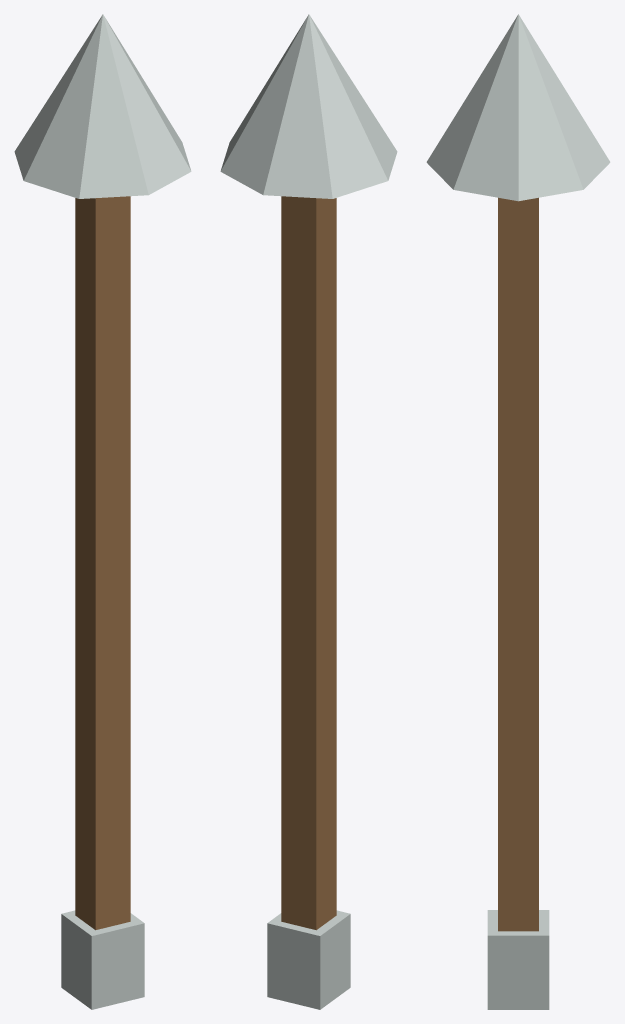
The model's file is weapon_iron_staff.glb.
3 views of the same model, side by side, from view 1: azimuth 30°, elevation 25°; view 2: azimuth 150°, elevation 25°; view 3: azimuth 270°, elevation 25° (orthographic).
Parts seen in each view (by area): view 1: weapon_iron_staff; view 2: weapon_iron_staff; view 3: weapon_iron_staff.
Part boxes in pixels (<box>): weapon_iron_staff: <box>14,14,191,1009</box>; weapon_iron_staff: <box>220,14,397,1009</box>; weapon_iron_staff: <box>426,14,610,1009</box>.
Bounding box in the file's own units: 0.36 × 2.12 × 0.36.
2 materials, 2 textured.
